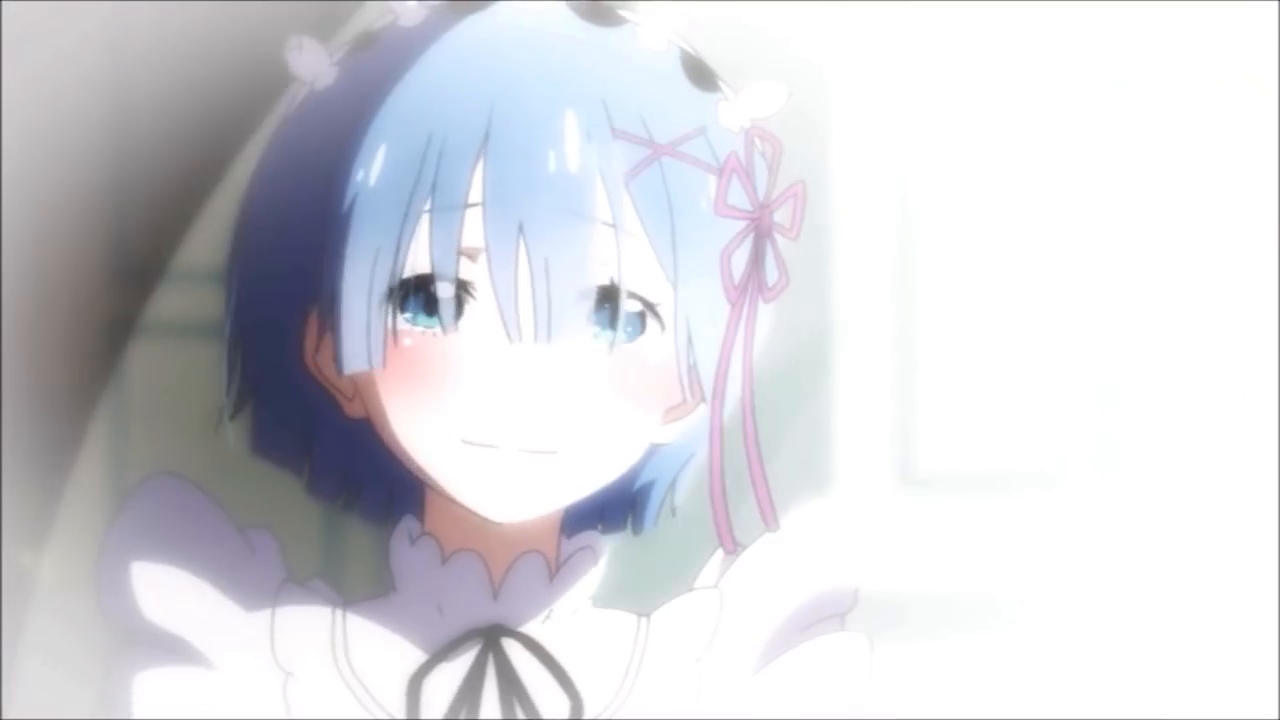REM: (210, 4, 823, 523)
